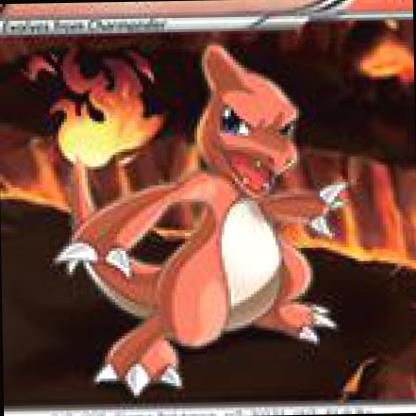Glutexo: (0, 0, 412, 409)
